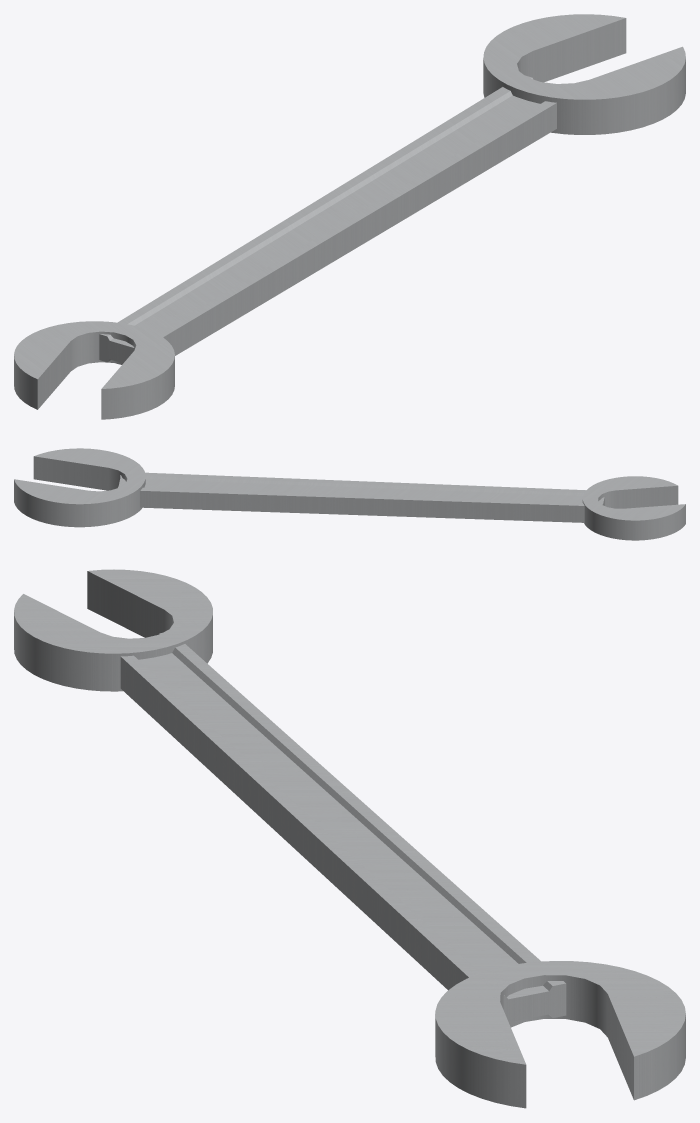
The model's file is double-open-end-spanner-13-x-17-mm-14f04a04.glb.
3 renders of one model, top to bottom at view 1: azimuth 30°, elevation 25°; view 2: azimuth 150°, elevation 25°; view 3: azimuth 270°, elevation 25°, orthographic. The views are drawn at different scales.
Visible parts, largest first — view 1: Double open-end spanner 13 x 17 mm.001; view 2: Double open-end spanner 13 x 17 mm.001; view 3: Double open-end spanner 13 x 17 mm.001.
Part boxes in pixels (left/top/right/bottom): Double open-end spanner 13 x 17 mm.001: left=14, top=14, right=685, bottom=419; Double open-end spanner 13 x 17 mm.001: left=14, top=448, right=685, bottom=540; Double open-end spanner 13 x 17 mm.001: left=14, top=569, right=685, bottom=1108.
Size of the model in its own units: 0.1833 by 0.0075 by 0.1045.
1 material, 1 textured.
